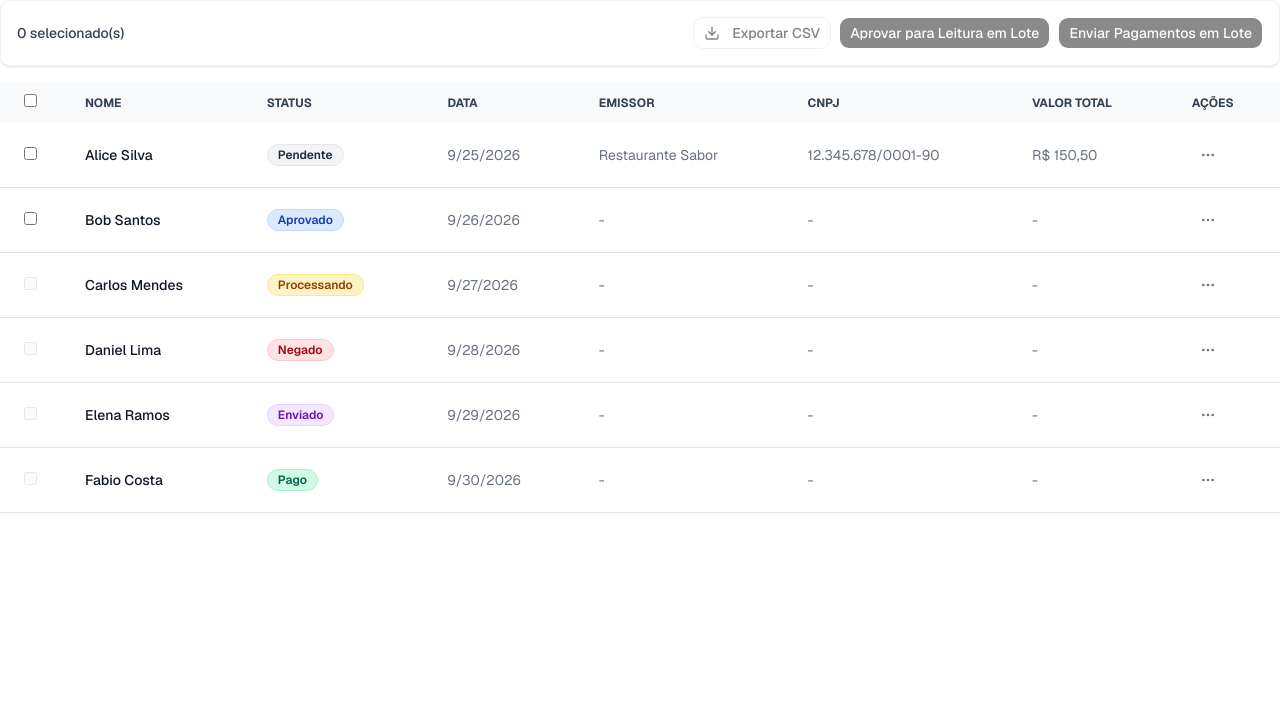
Test: RequestsTable › Phase 4 - Extracted Data and AI Actions Integration › should show 'Visualizar Nota Fiscal' and NOT show 'Aprovar para Leitura' in the 3-dots menu for an APPROVED row with receipt_file_url
// Index 1 is Bob Santos (APPROVED with receipt_file_url)
Click the button named "Abrir menu de ações para Bob Santos": x=1208, y=220 [1192, 204, 1224, 236]
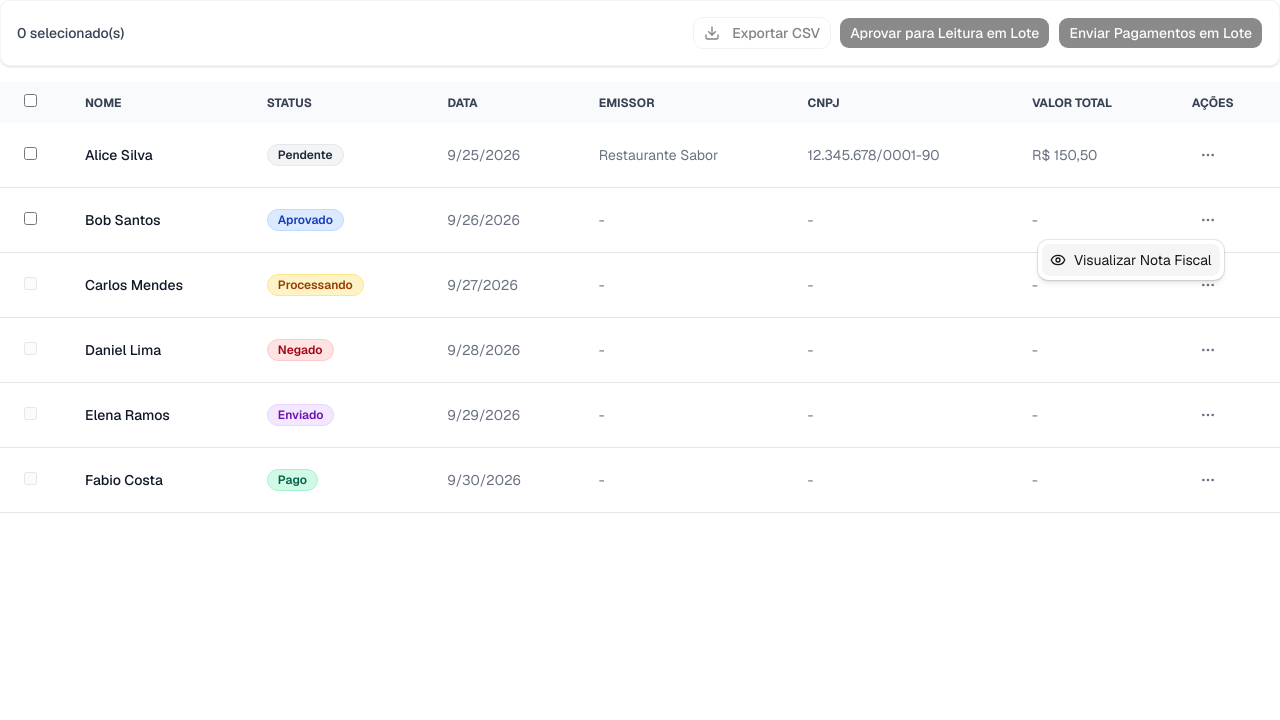
Result: the menu item "Visualizar Nota Fiscal" is shown at [1042, 244, 1220, 276]
